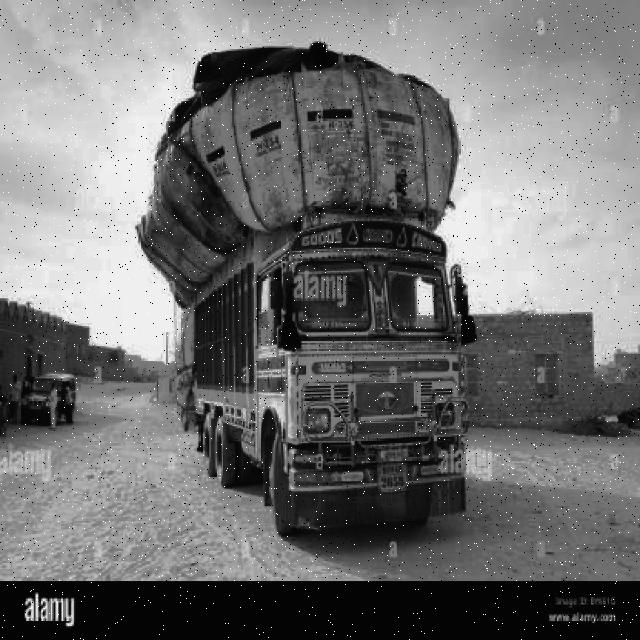HCV: (175, 163, 448, 529)
